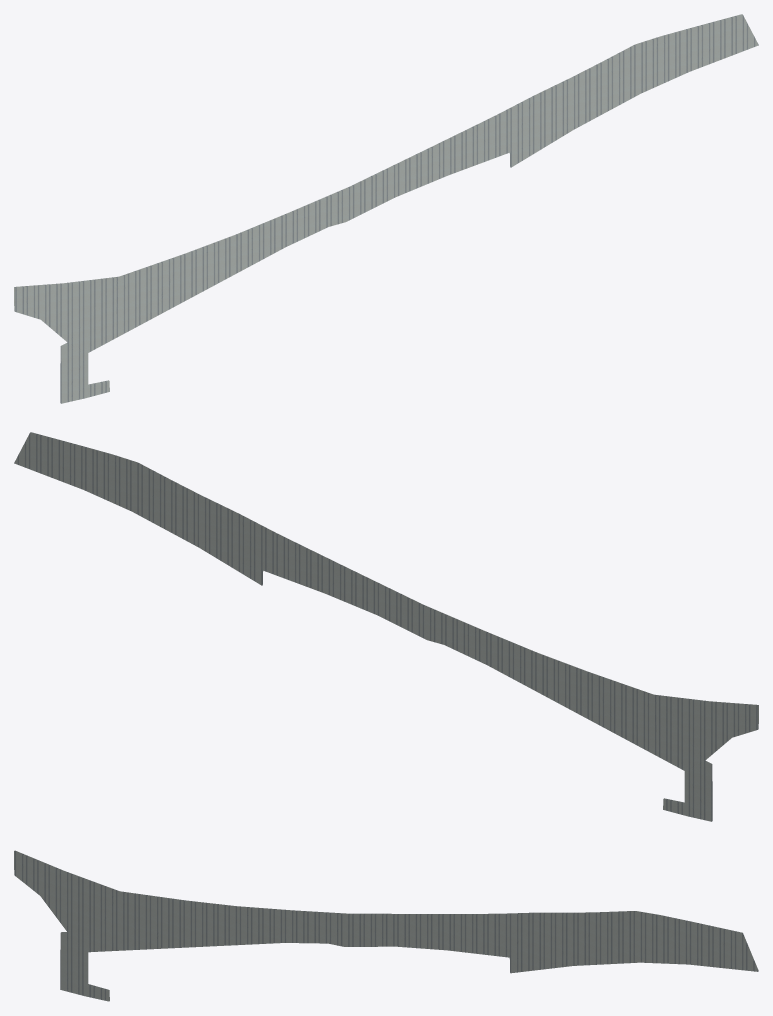
File: floor_70.obj
The picture shows the model from 3 angles, top to bottom: view 1: azimuth 30°, elevation 25°; view 2: azimuth 150°, elevation 25°; view 3: azimuth 330°, elevation 25°; orthographic projection.
Visible parts, largest first — view 1: floor_70; view 2: floor_70; view 3: floor_70.
Boxes of the visible parts, <box> form: floor_70: <box>14,14,758,403</box>; floor_70: <box>14,432,758,821</box>; floor_70: <box>14,850,758,1001</box>.
Size of the model in its own units: 66.15 by 18.97 by 0.1.
1 material, 1 textured.
